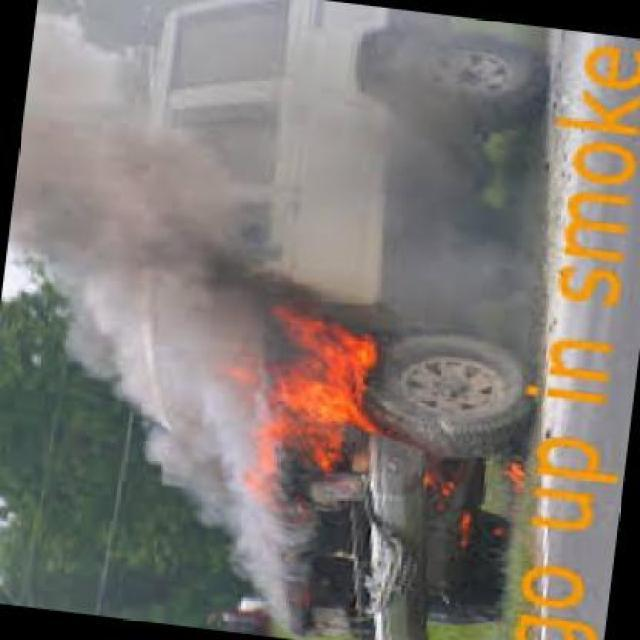Fire: (258, 291, 382, 488)
Smoke: (38, 24, 254, 604), (262, 18, 554, 301)
